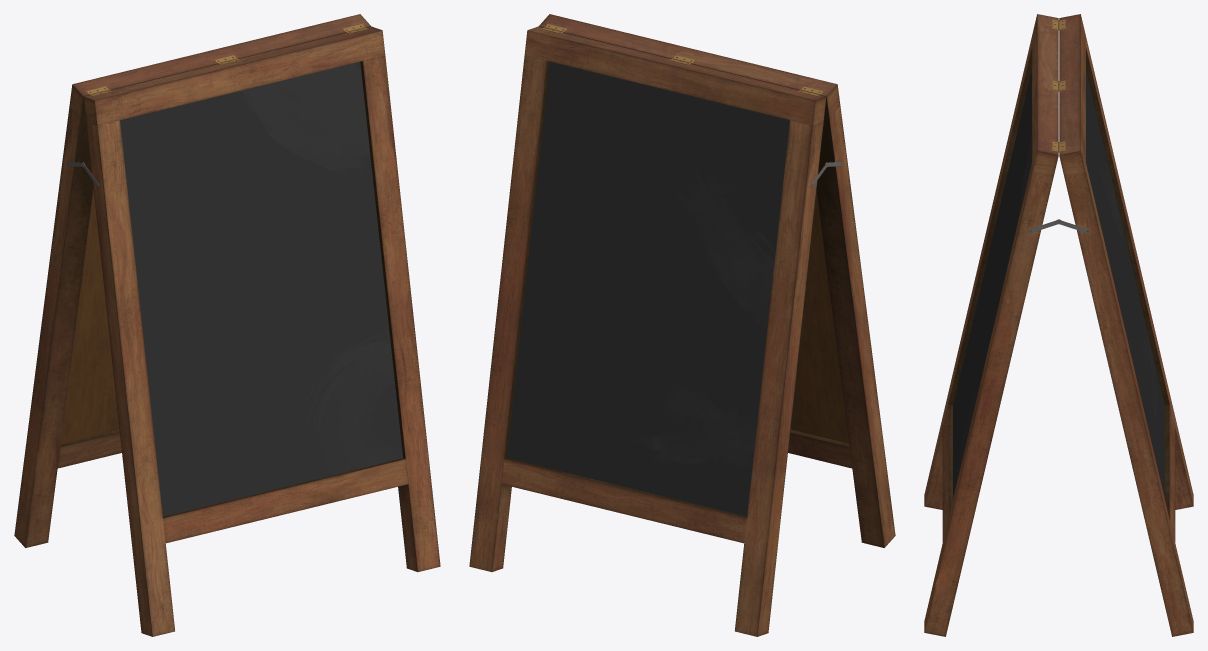
The model's file is SidewalkChalkboard.obj.
The picture shows the model from 3 angles, left to right: view 1: azimuth 30°, elevation 25°; view 2: azimuth 150°, elevation 25°; view 3: azimuth 270°, elevation 25°; orthographic projection. The views are drawn at different scales.
Visible parts, largest first — view 1: Board, Frame; view 2: Board, Frame; view 3: Frame, Board.
Boxes of the visible parts, left/top/right/bottom form: Board: left=61, top=62, right=402, bottom=516; Frame: left=14, top=14, right=440, bottom=636; Board: left=507, top=62, right=848, bottom=516; Frame: left=469, top=14, right=895, bottom=636; Frame: left=924, top=14, right=1193, bottom=636; Board: left=953, top=70, right=1164, bottom=498.
Size of the model in its own units: 0.9196 by 1.51 by 0.7588.
Materials: 2 (2 with a texture image).
